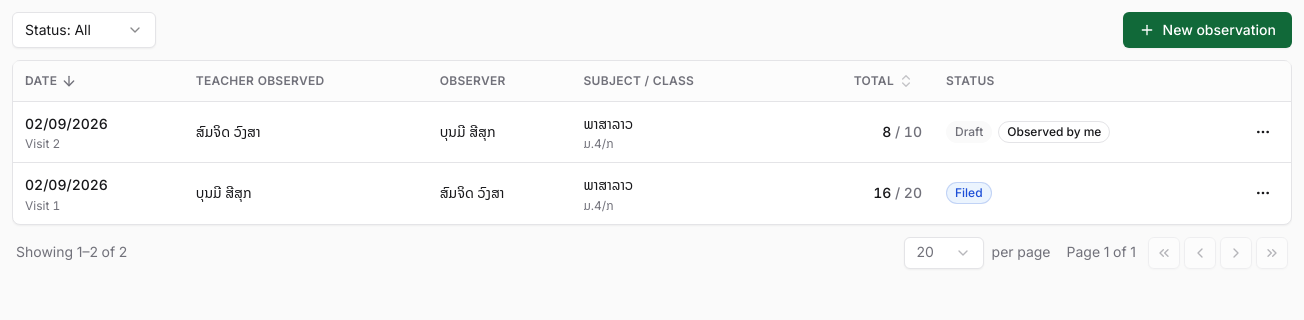
Test: the sheet list › offers filing to the observer
Click the button named "Actions" in the row of "Visit 2" at (1263, 132), box [1247, 116, 1279, 148]
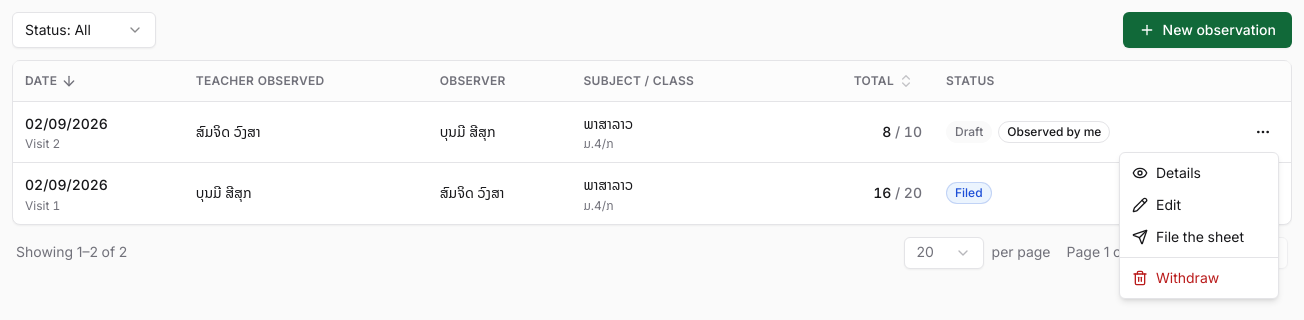
Expected: the menu item "File the sheet" is shown, [1132, 225, 1244, 248]
